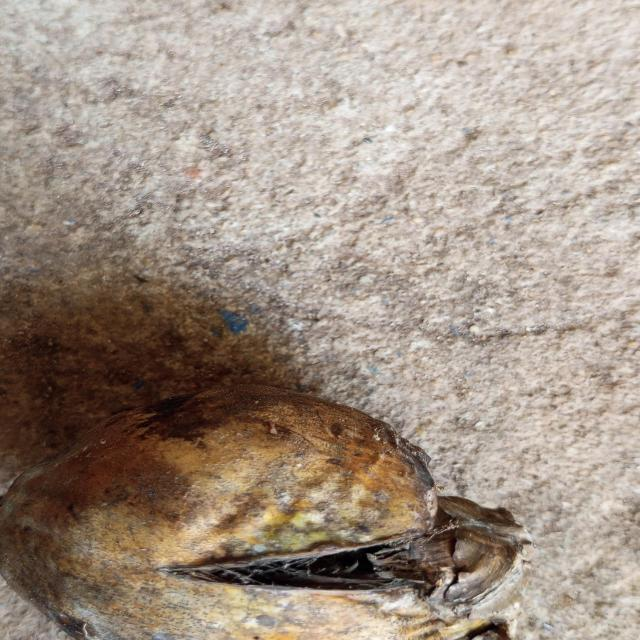damaged: (2, 385, 532, 640)
